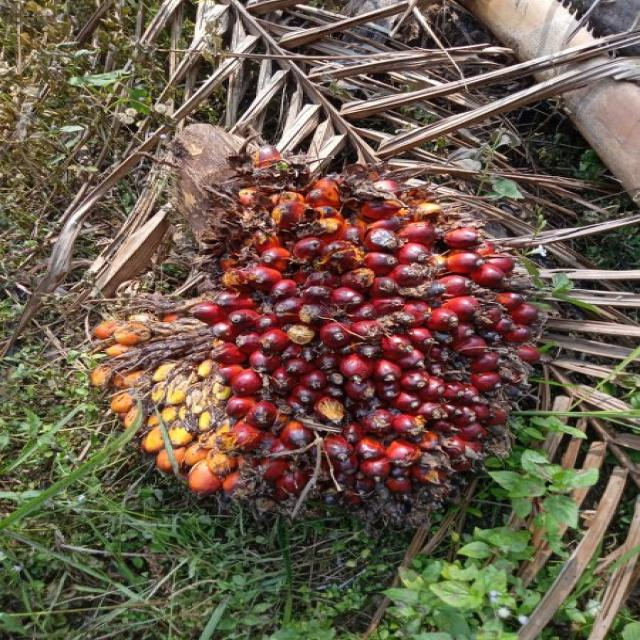fraksi 1: (63, 105, 604, 566)
